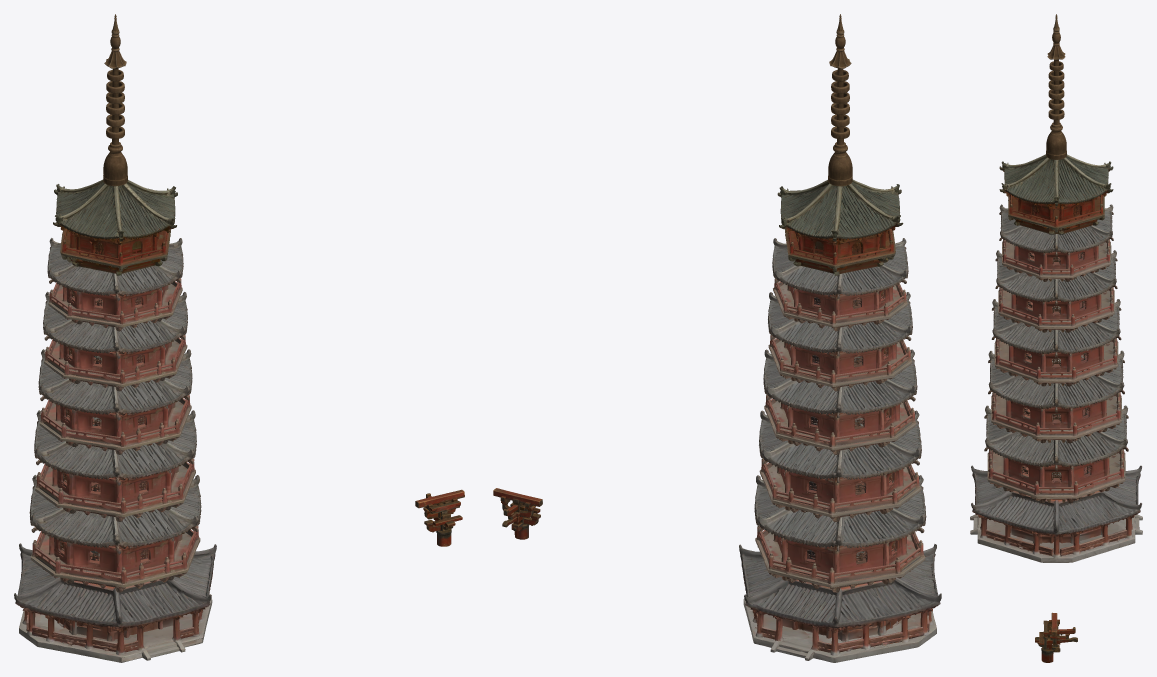
Rendered from feiying.glb.
3 renders of one model, left to right at view 1: azimuth 30°, elevation 25°; view 2: azimuth 150°, elevation 25°; view 3: azimuth 270°, elevation 25°, orthographic. The views are drawn at different scales.
Visible parts, largest first — view 1: 外塔_01_副阶_geo, 外塔_02_geo, 外塔_03_geo, 外塔_04_geo, 外塔_07_顶层_geo, 外塔_05_geo, 外塔_06_geo, 塔刹_geo, 细部_斗栱_geo; view 2: 外塔_01_副阶_geo, 外塔_02_geo, 外塔_03_geo, 外塔_04_geo, 外塔_07_顶层_geo, 外塔_05_geo, 外塔_06_geo, 塔刹_geo, 细部_斗栱_geo; view 3: 外塔_01_副阶_geo, 外塔_02_geo, 外塔_03_geo, 外塔_04_geo, 外塔_07_顶层_geo, 外塔_05_geo, 外塔_06_geo, 塔刹_geo, 细部_斗栱_geo.
Part boxes in pixels (x1,y1,x2,y2): 外塔_01_副阶_geo: [14, 543, 216, 662]; 外塔_02_geo: [29, 475, 201, 592]; 外塔_03_geo: [34, 410, 196, 521]; 外塔_04_geo: [38, 349, 192, 454]; 外塔_07_顶层_geo: [53, 179, 177, 275]; 外塔_05_geo: [43, 291, 187, 391]; 外塔_06_geo: [47, 238, 183, 331]; 塔刹_geo: [103, 14, 127, 186]; 细部_斗栱_geo: [415, 489, 464, 546]; 外塔_01_副阶_geo: [739, 544, 941, 662]; 外塔_02_geo: [754, 475, 926, 592]; 外塔_03_geo: [759, 410, 921, 522]; 外塔_04_geo: [763, 349, 917, 454]; 外塔_07_顶层_geo: [777, 179, 903, 275]; 外塔_05_geo: [768, 292, 912, 391]; 外塔_06_geo: [772, 238, 908, 331]; 塔刹_geo: [828, 14, 852, 186]; 细部_斗栱_geo: [493, 488, 542, 539]; 外塔_01_副阶_geo: [970, 465, 1142, 562]; 外塔_02_geo: [984, 405, 1128, 503]; 外塔_03_geo: [988, 350, 1124, 443]; 外塔_04_geo: [991, 299, 1121, 386]; 外塔_07_顶层_geo: [999, 154, 1113, 234]; 外塔_05_geo: [995, 250, 1117, 332]; 外塔_06_geo: [999, 204, 1113, 281]; 塔刹_geo: [1046, 14, 1066, 159]; 细部_斗栱_geo: [1035, 612, 1077, 662].
Size of the model in its own units: 31.01 by 40.06 by 12.24.
6 materials, 6 textured.
